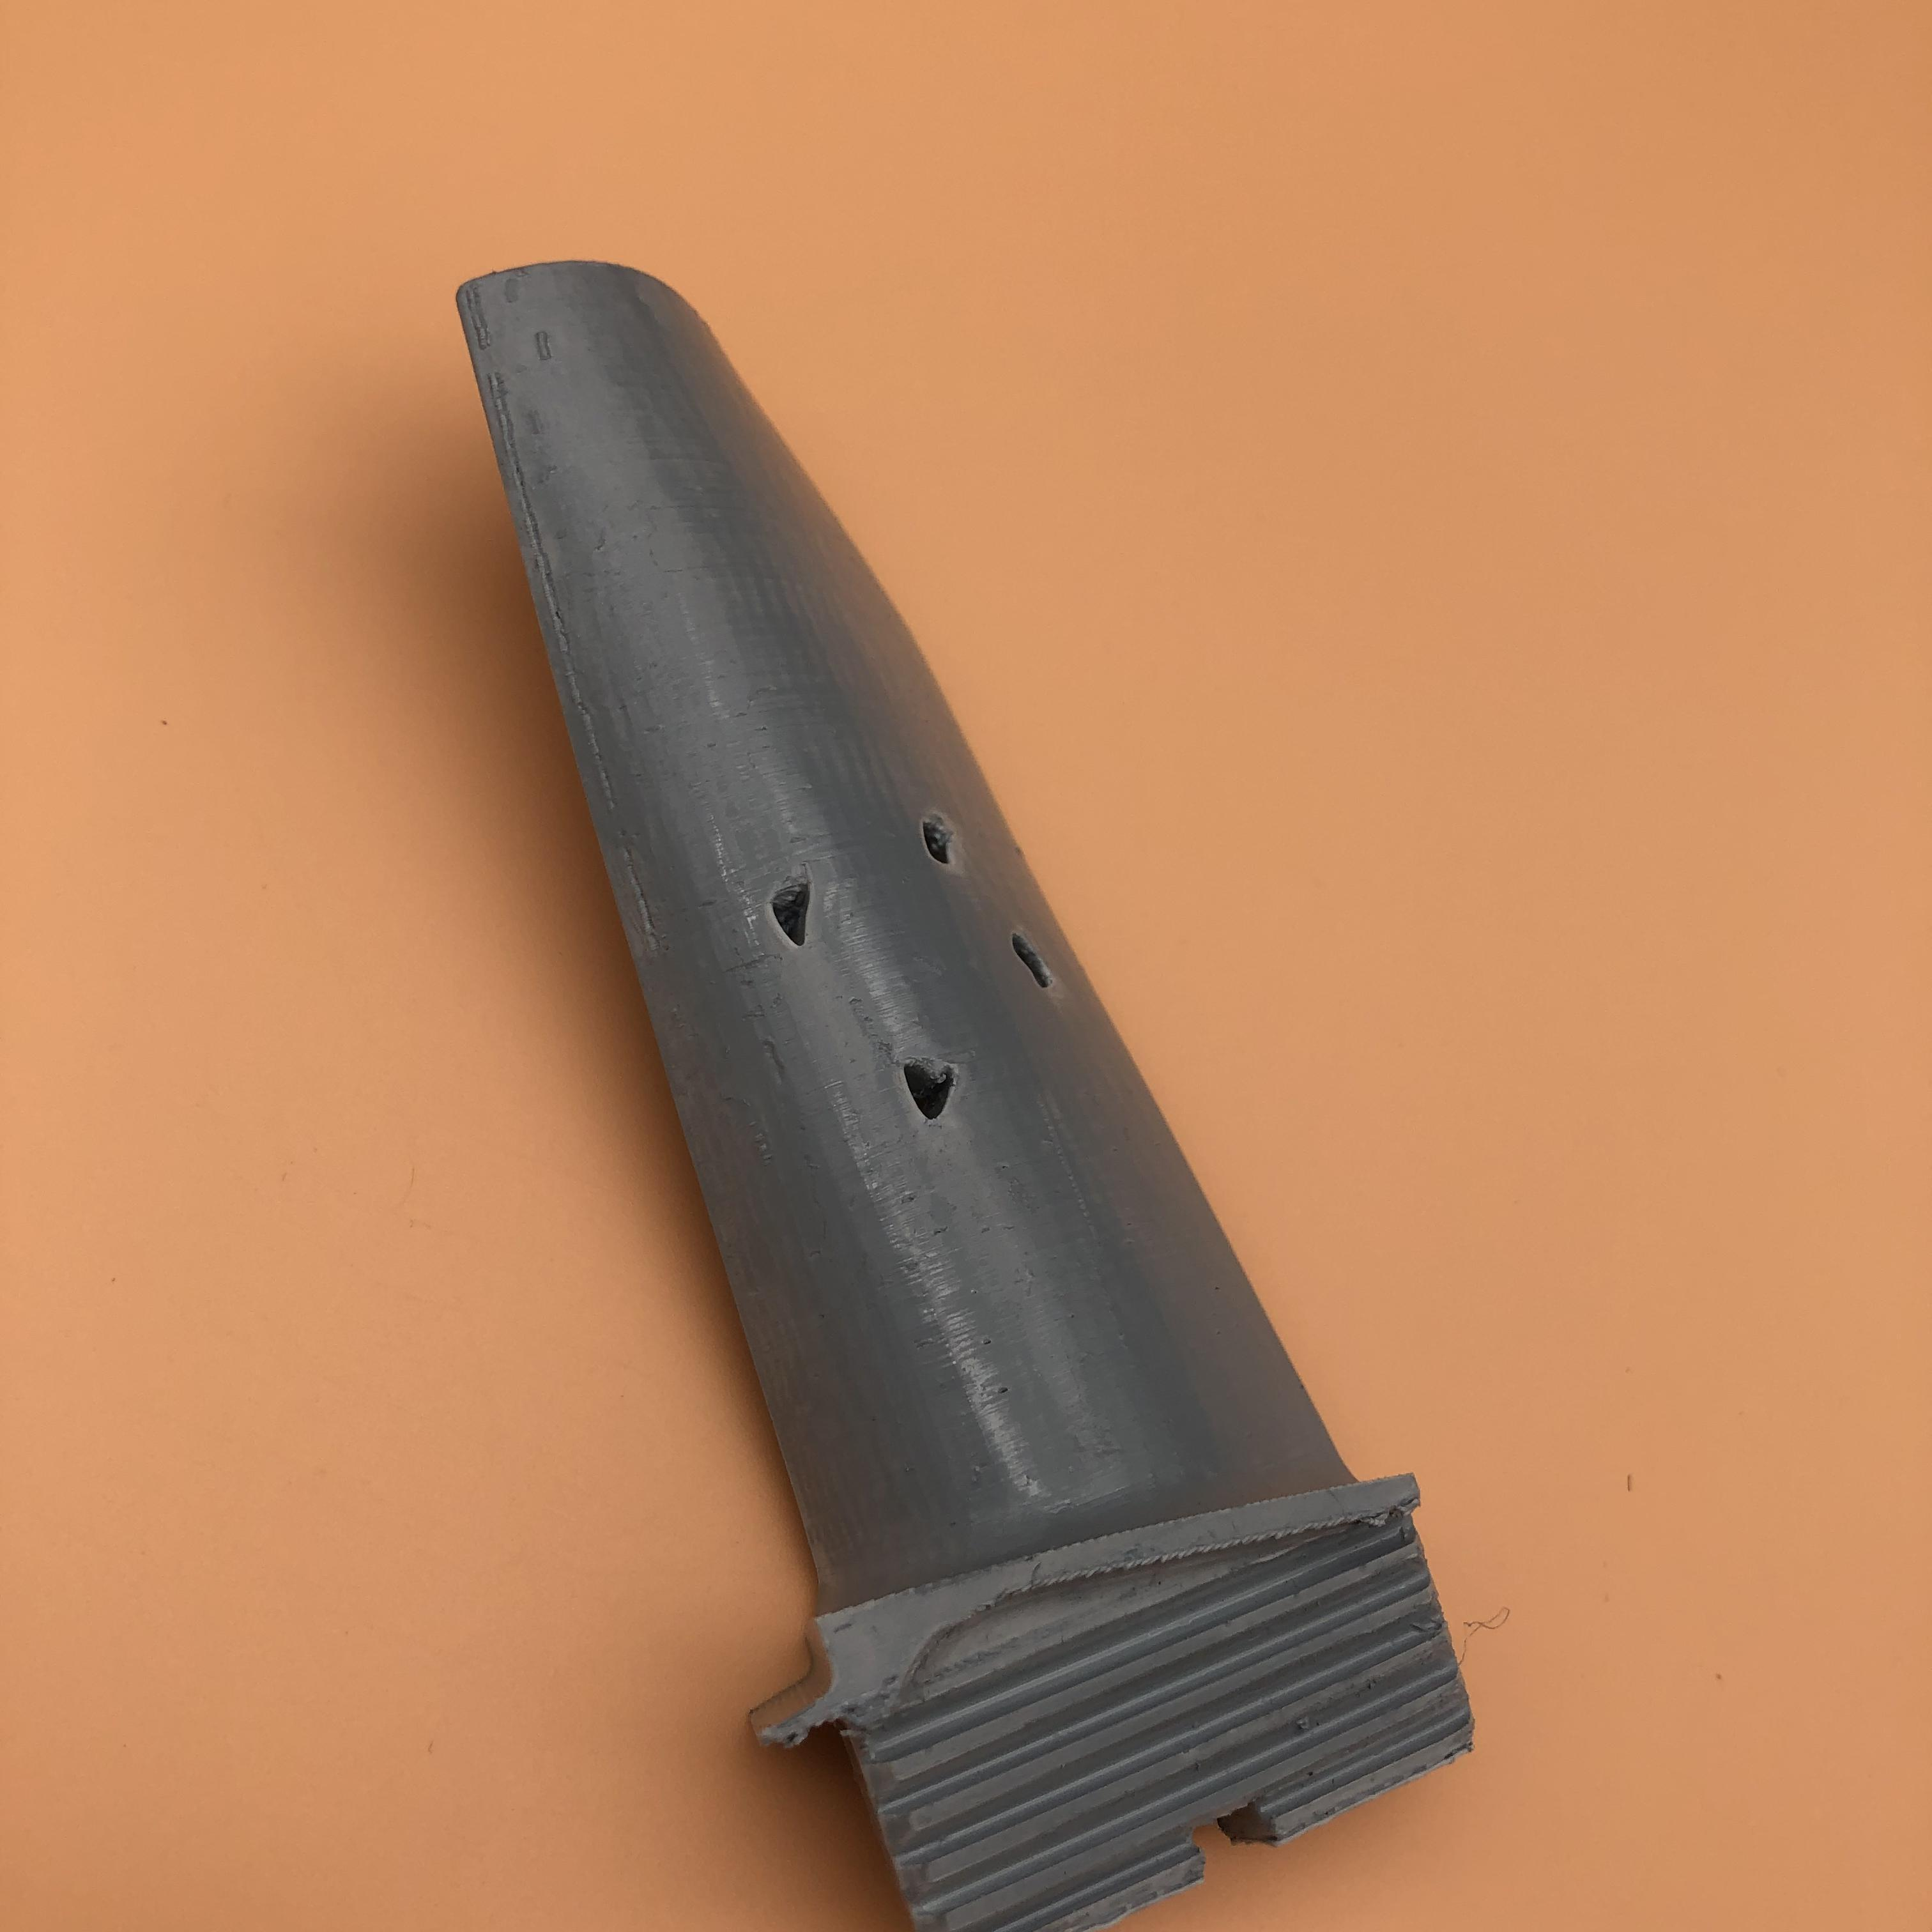breakdown: (766, 849, 833, 964), (1001, 927, 1086, 1001), (913, 798, 978, 886), (901, 1051, 973, 1125)
